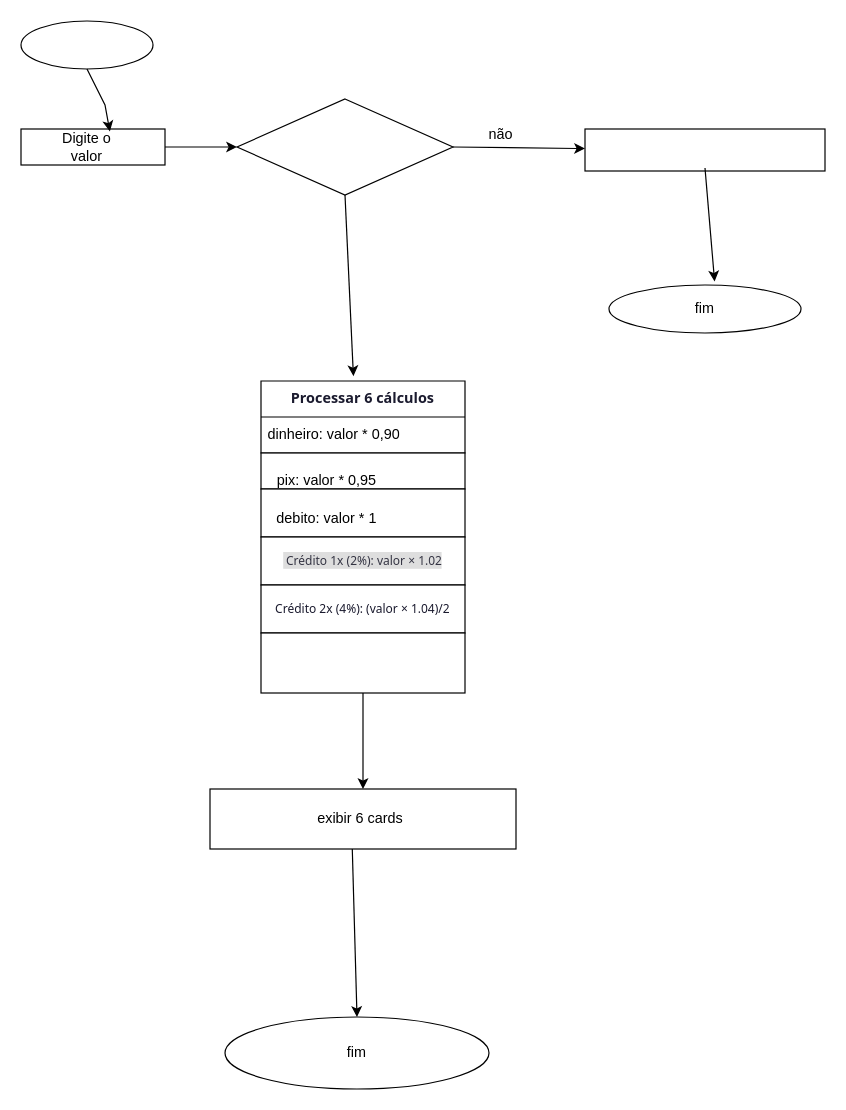
This 846x1110 diagram has some shape labels left out. The shapes that lost their labels are listed below. From the top down, each one's centre as x and y in pixels, then its label:
[86,44]: inicio
[344,146]: Valor > 0?
[704,149]: Exibir erro
[362,662]: Crédito 3x (7%): (valor × 1.07)/3
